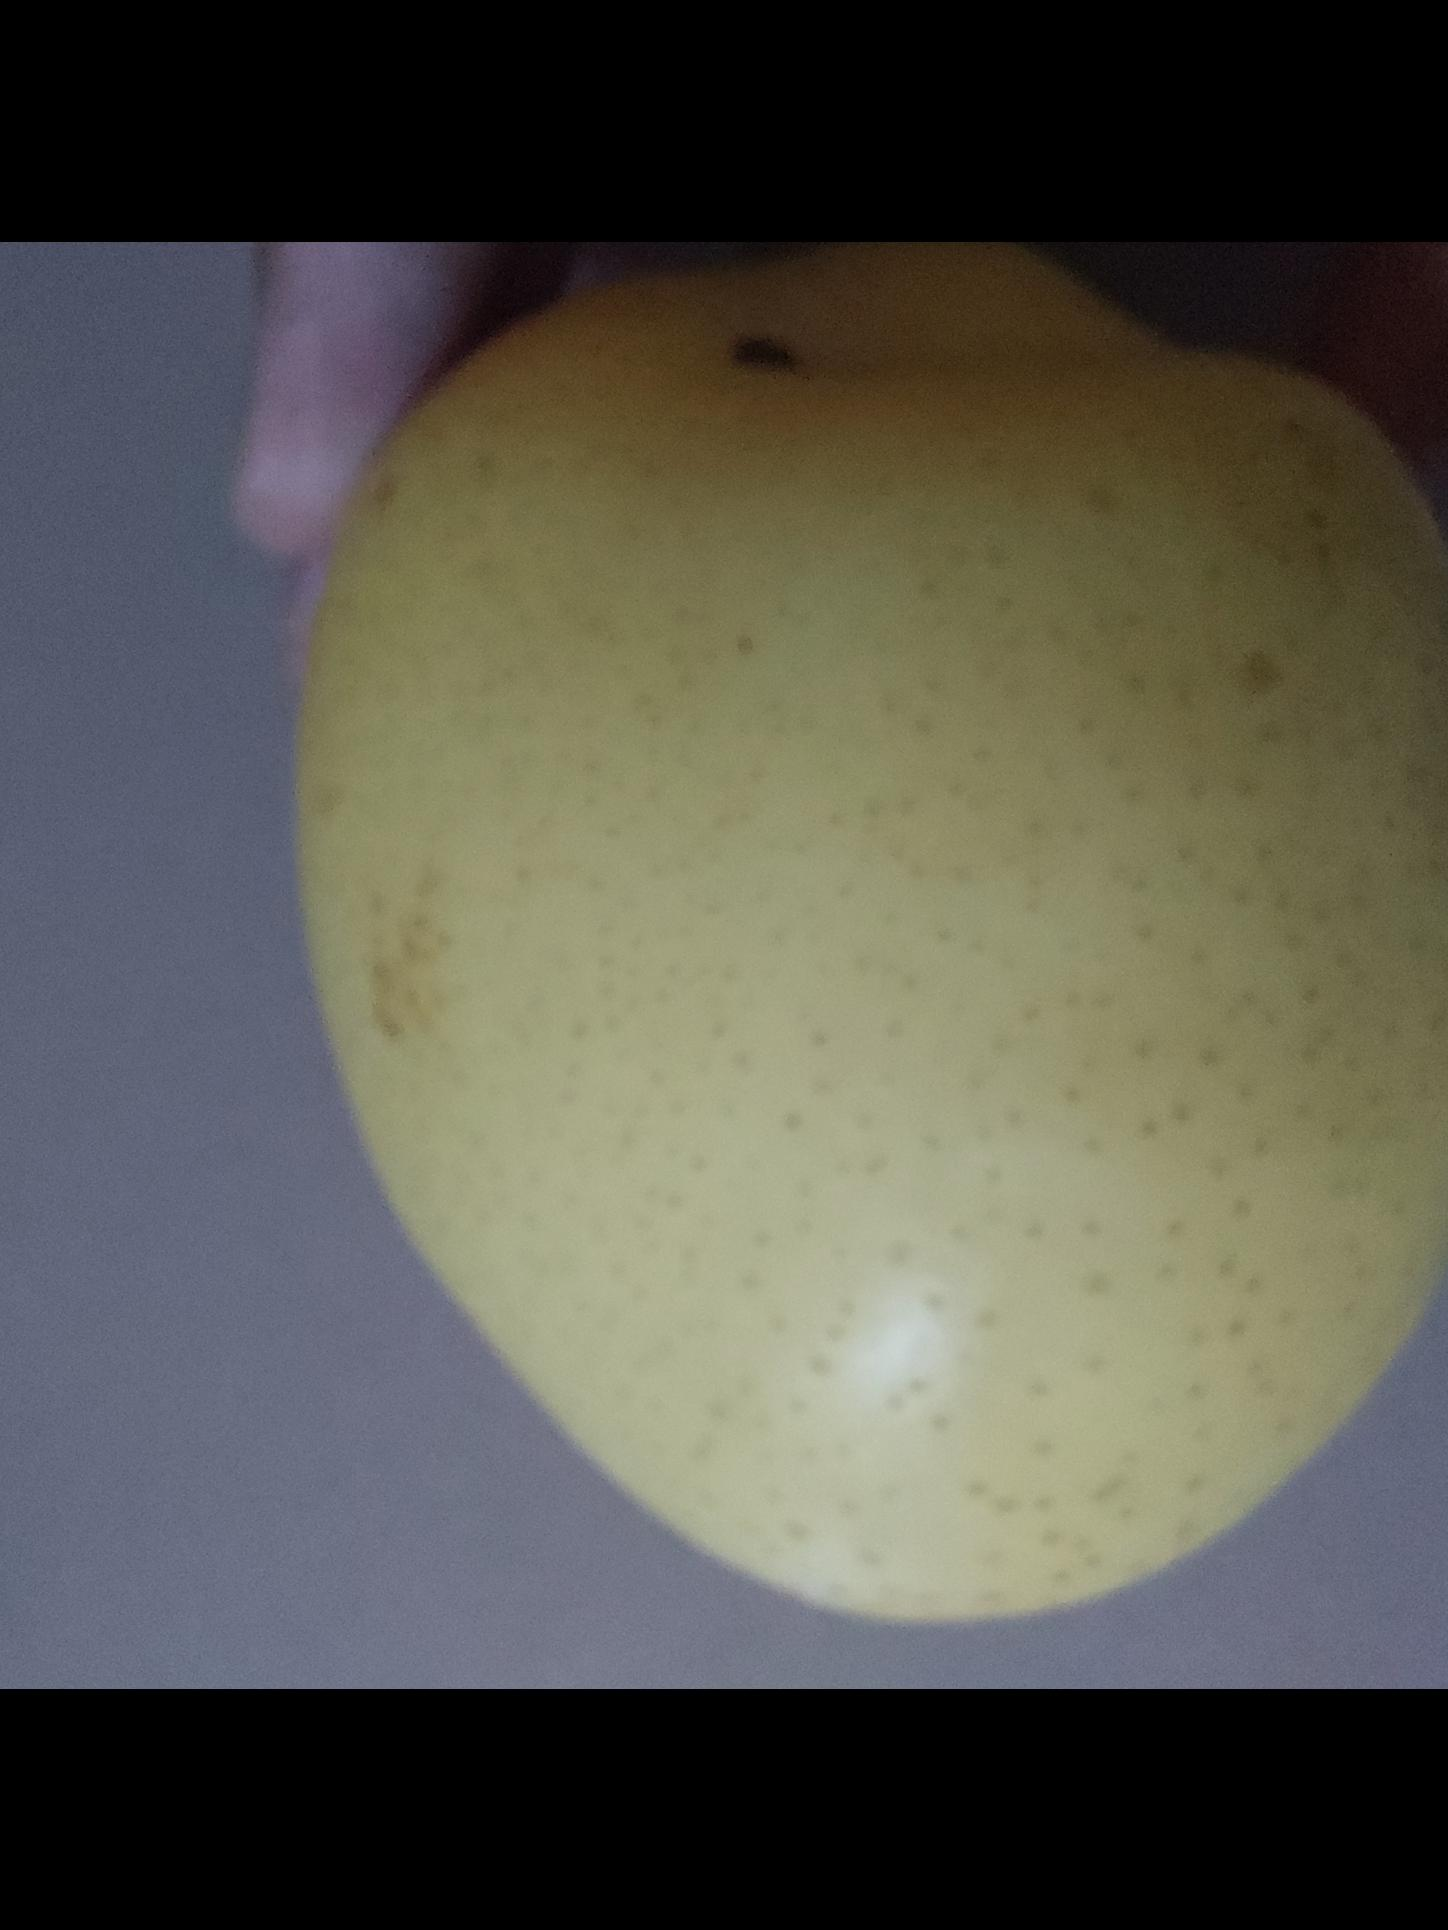Good Pear: (284, 241, 1448, 1624)
